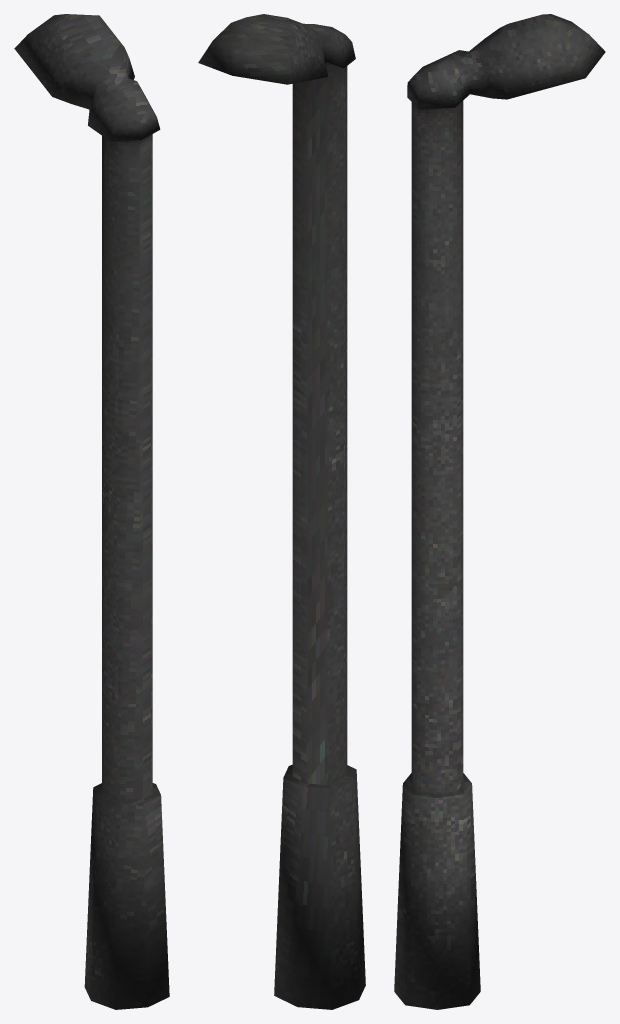
The model's file is stolb.glb.
3 views of the same model, side by side, from view 1: azimuth 30°, elevation 25°; view 2: azimuth 150°, elevation 25°; view 3: azimuth 270°, elevation 25° (orthographic). The views are drawn at different scales.
Visible parts, largest first — view 1: Cube.001; view 2: Cube.001; view 3: Cube.001.
Boxes of the visible parts, x1=… form: Cube.001: x1=14, y1=14, x2=169, y2=1009; Cube.001: x1=198, y1=14, x2=365, y2=1009; Cube.001: x1=394, y1=14, x2=605, y2=1009.
Bounding box in the file's own units: 1.6 × 17.26 × 3.41.
Materials: 1 (1 with a texture image).
